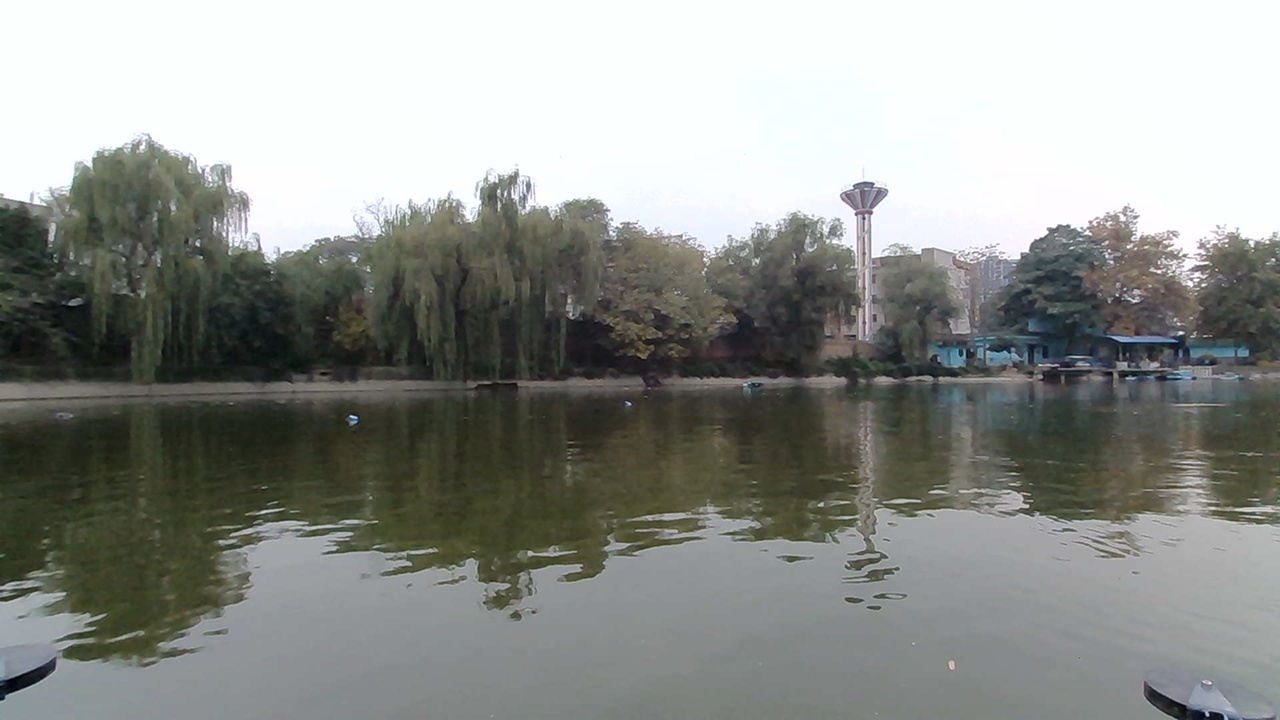bottle: (45, 401, 84, 428), (338, 411, 369, 429)
